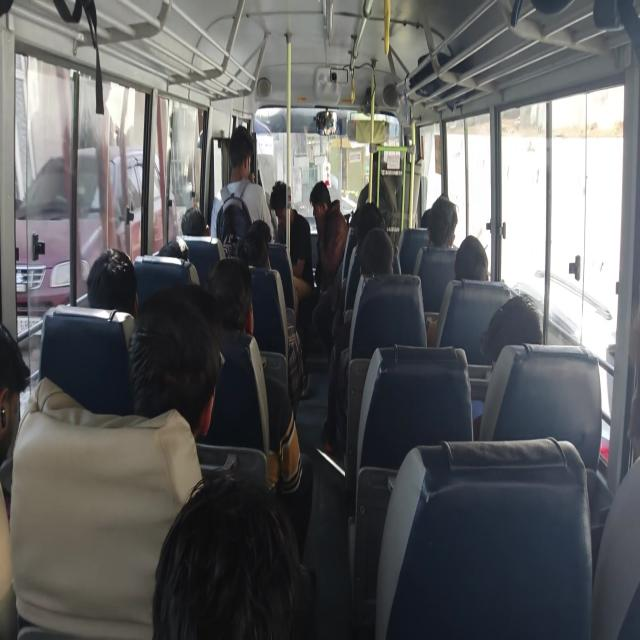person: (9, 286, 222, 638), (151, 468, 307, 639), (206, 256, 303, 497), (322, 227, 394, 454), (127, 287, 223, 441), (471, 294, 543, 439), (0, 321, 30, 638), (210, 125, 273, 249), (426, 234, 489, 347), (269, 180, 314, 301), (311, 205, 348, 348), (480, 294, 543, 367), (412, 194, 458, 275), (86, 247, 138, 318), (426, 194, 458, 249), (454, 234, 489, 282), (180, 206, 210, 236)
